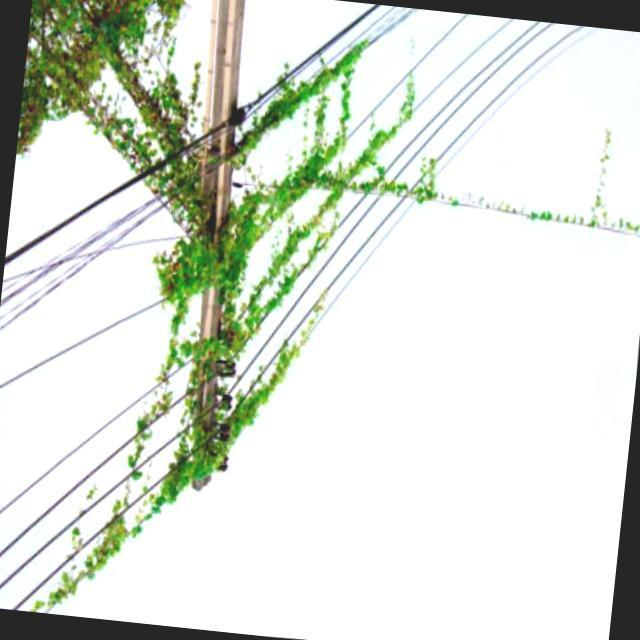critical vegetation: (143, 0, 294, 487)
